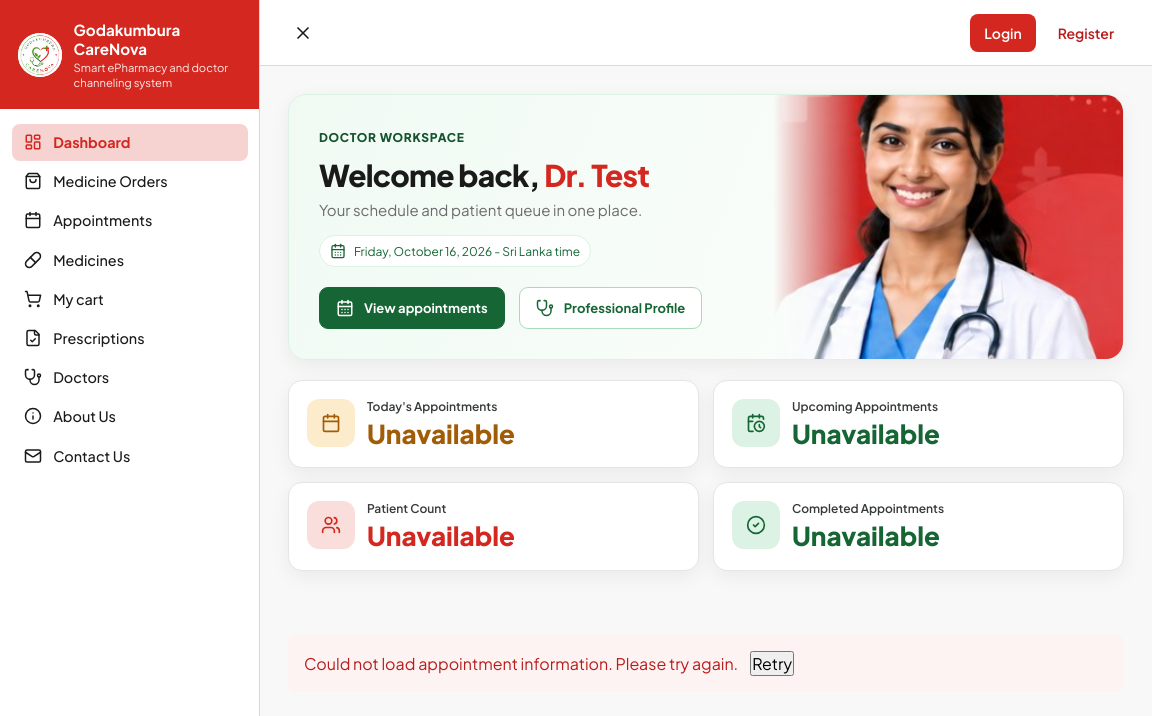
Test case: retries a failed dashboard load without displaying empty appointment states as results
Check: the message shows "Could not load appointment information", box [304,652,738,674]
Click the button "Retry" at (772, 663), box [750,650,794,676]
(page scrolled)
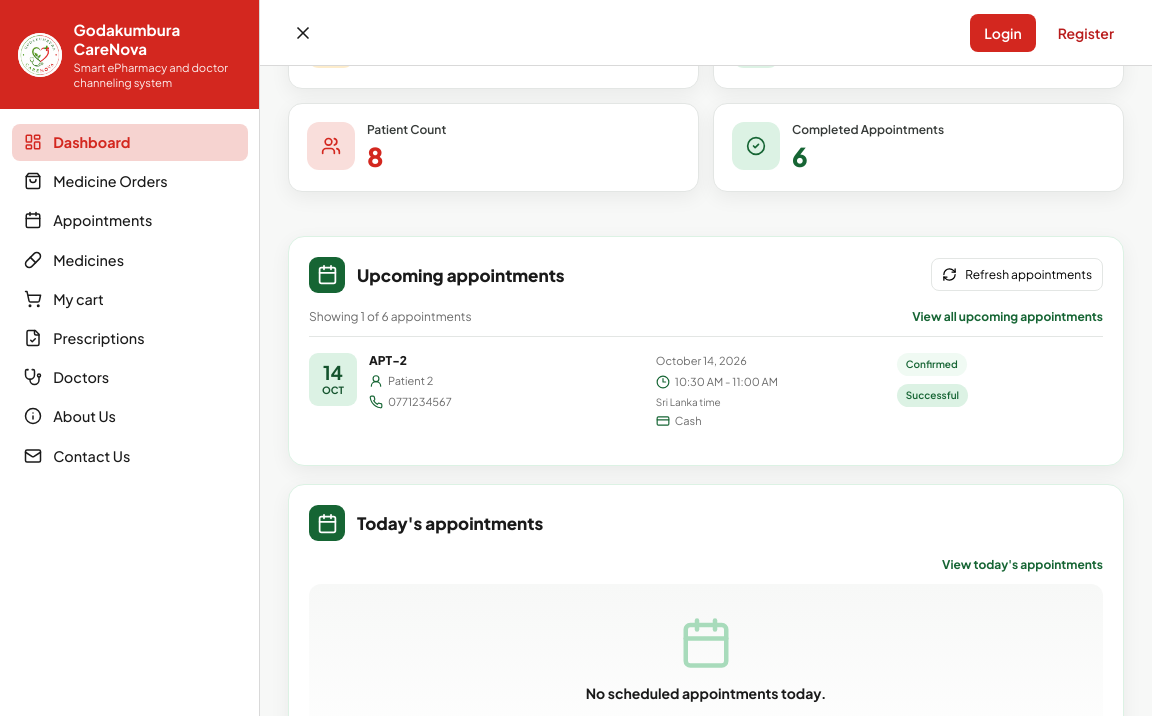
Check: the link with aria-label "View details for APT-2" is shown, box [369,352,407,368]
